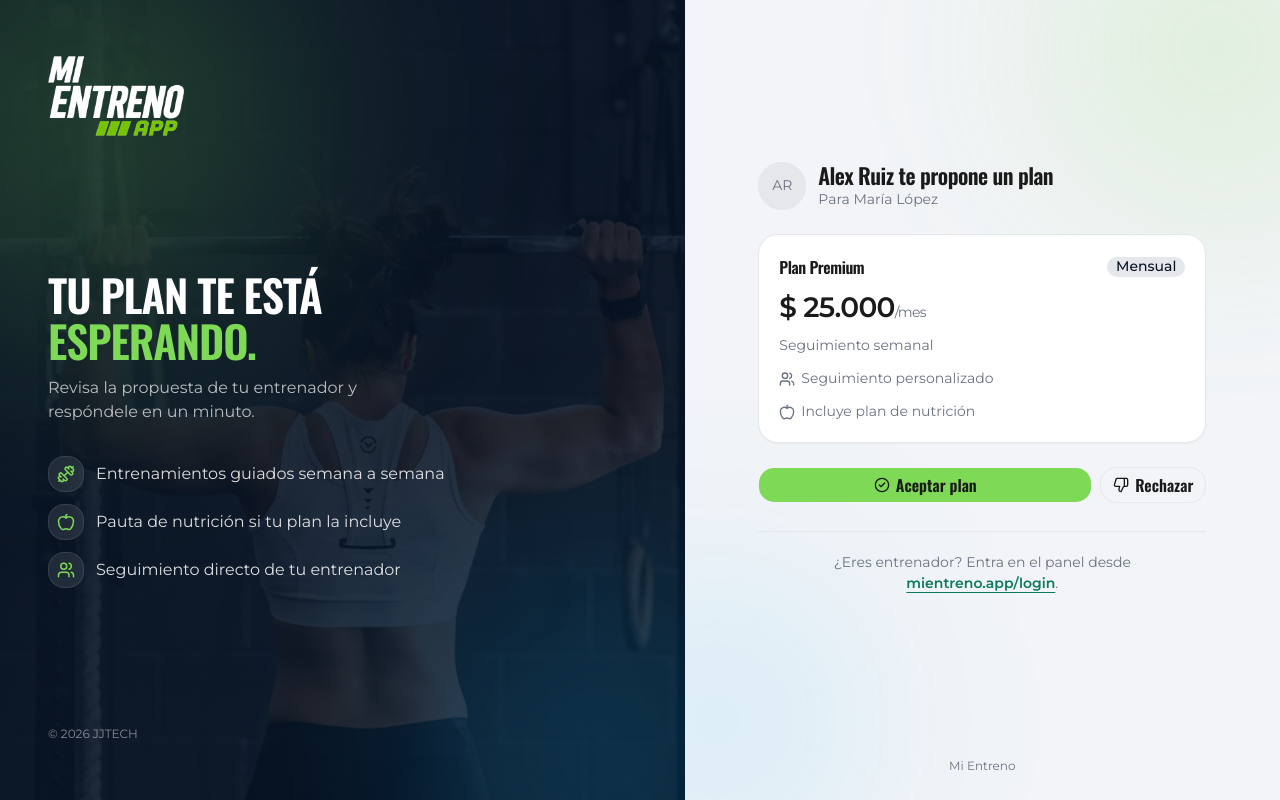
Test: InvitationResponseScreen › announces the new student only when the subscription came back active
Click the button "Aceptar plan". click: (925, 485)
box: [758, 467, 1092, 503]
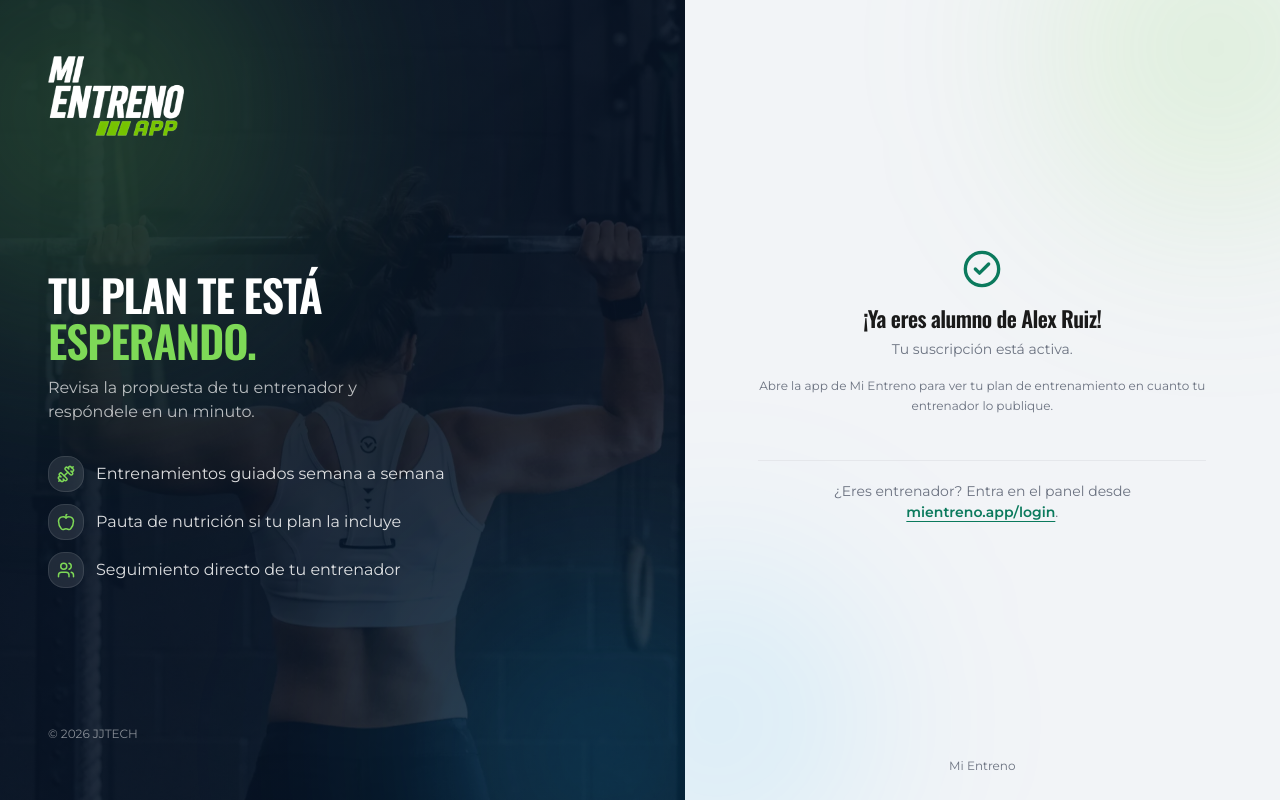
Expected: the heading "¡Ya eres alumno de Alex Ruiz!" is shown, [863, 305, 1101, 331]
